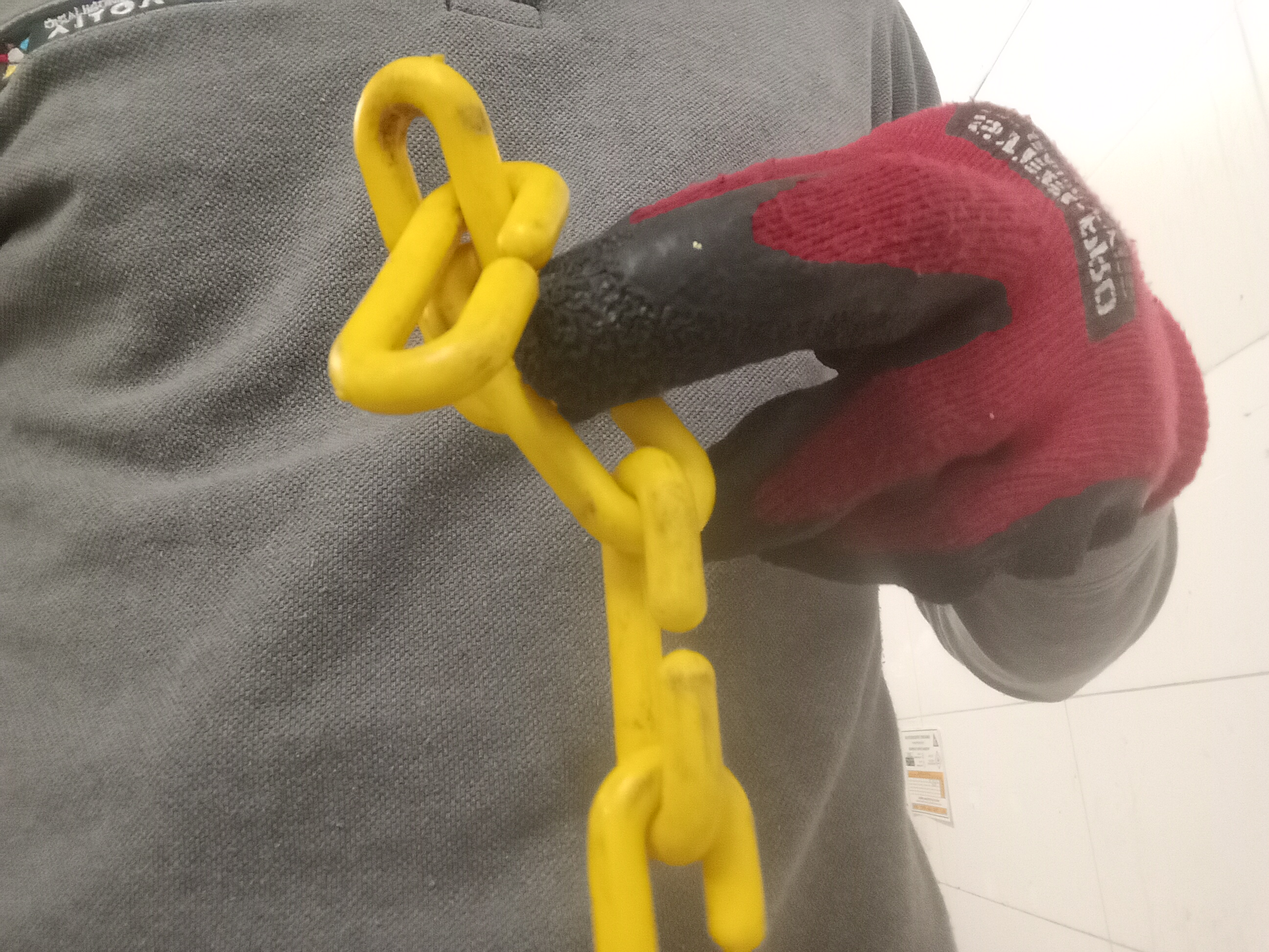Ordinario: (329, 58, 766, 952)
